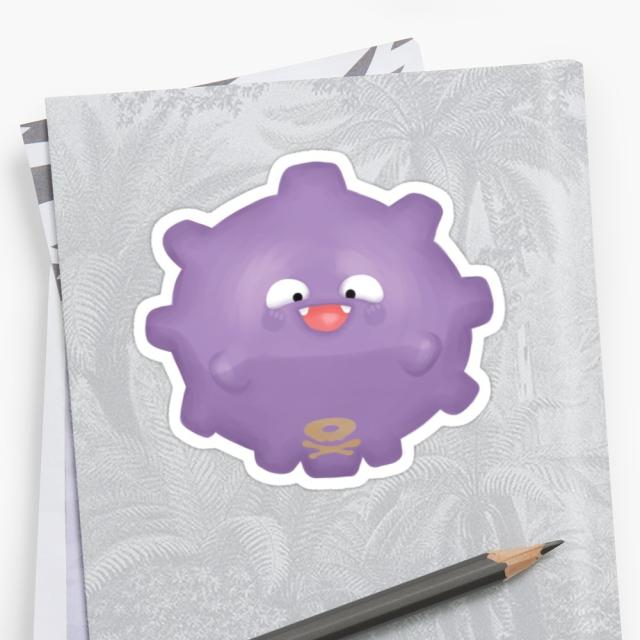Koffing: (122, 125, 510, 492)
